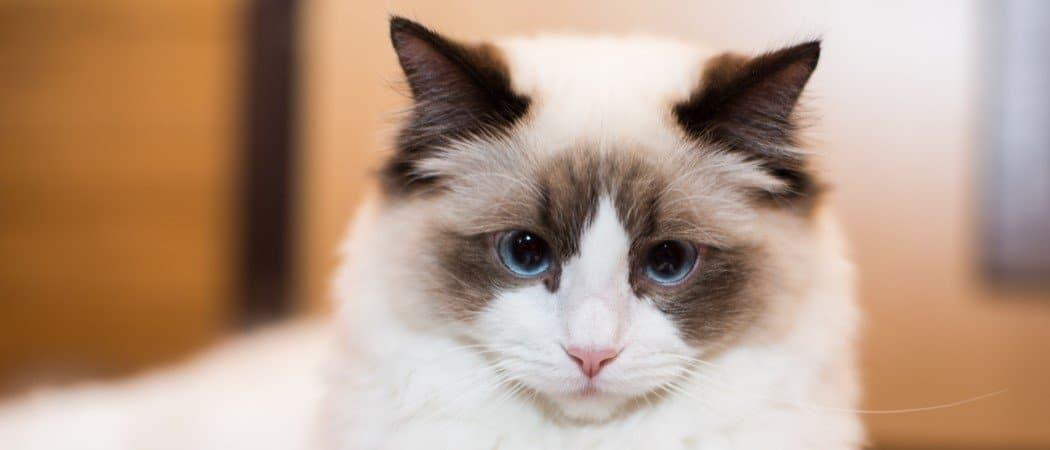ragdoll: (374, 1, 834, 446)
